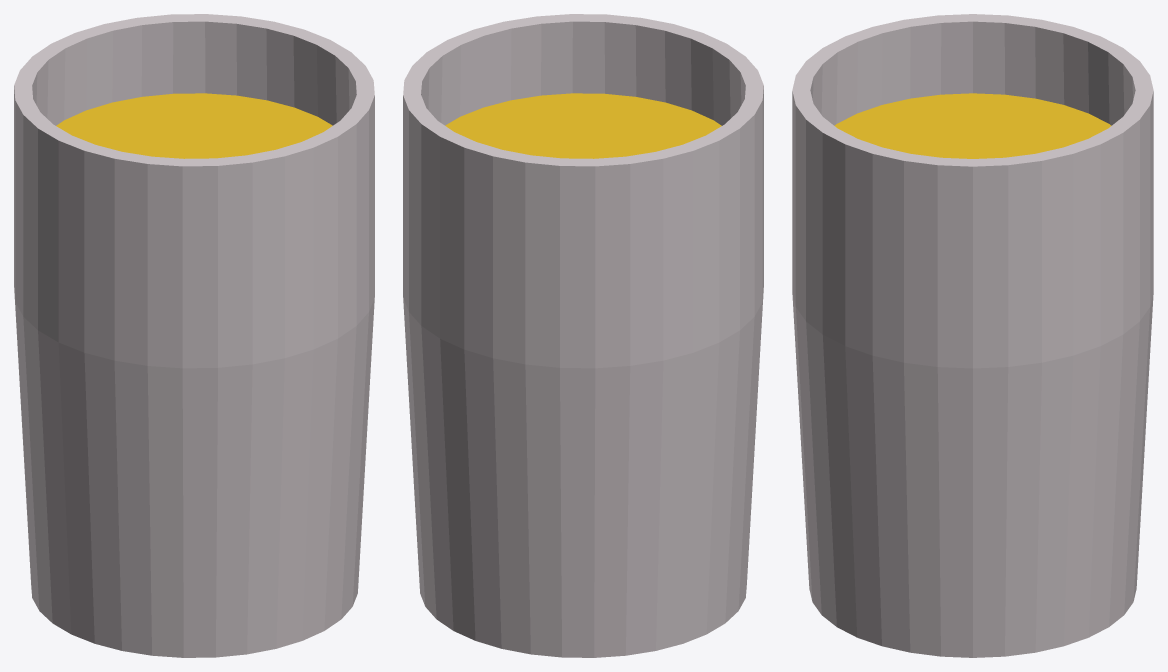
Rendered from Pineapple Juice.fbx.
3 views of the same model, side by side, from view 1: azimuth 30°, elevation 25°; view 2: azimuth 150°, elevation 25°; view 3: azimuth 270°, elevation 25° (orthographic).
Visible parts, largest first — view 1: Pineapple Juice; view 2: Pineapple Juice; view 3: Pineapple Juice.
Boxes of the visible parts, bbox=[...] form: Pineapple Juice: bbox=[14, 14, 374, 657]; Pineapple Juice: bbox=[403, 14, 763, 657]; Pineapple Juice: bbox=[792, 14, 1153, 657].
Size of the model in its own units: 221 by 221 by 336.
